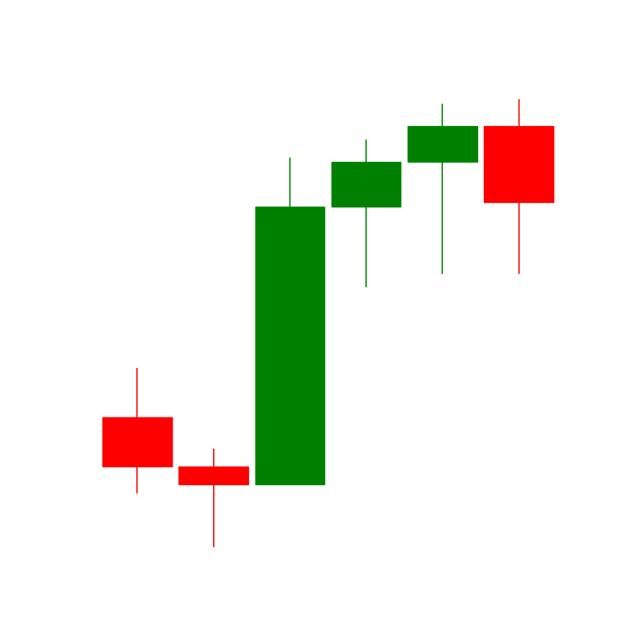Hammer: (408, 103, 480, 276), (330, 137, 402, 292)
Shooting Star: (100, 366, 176, 494)
